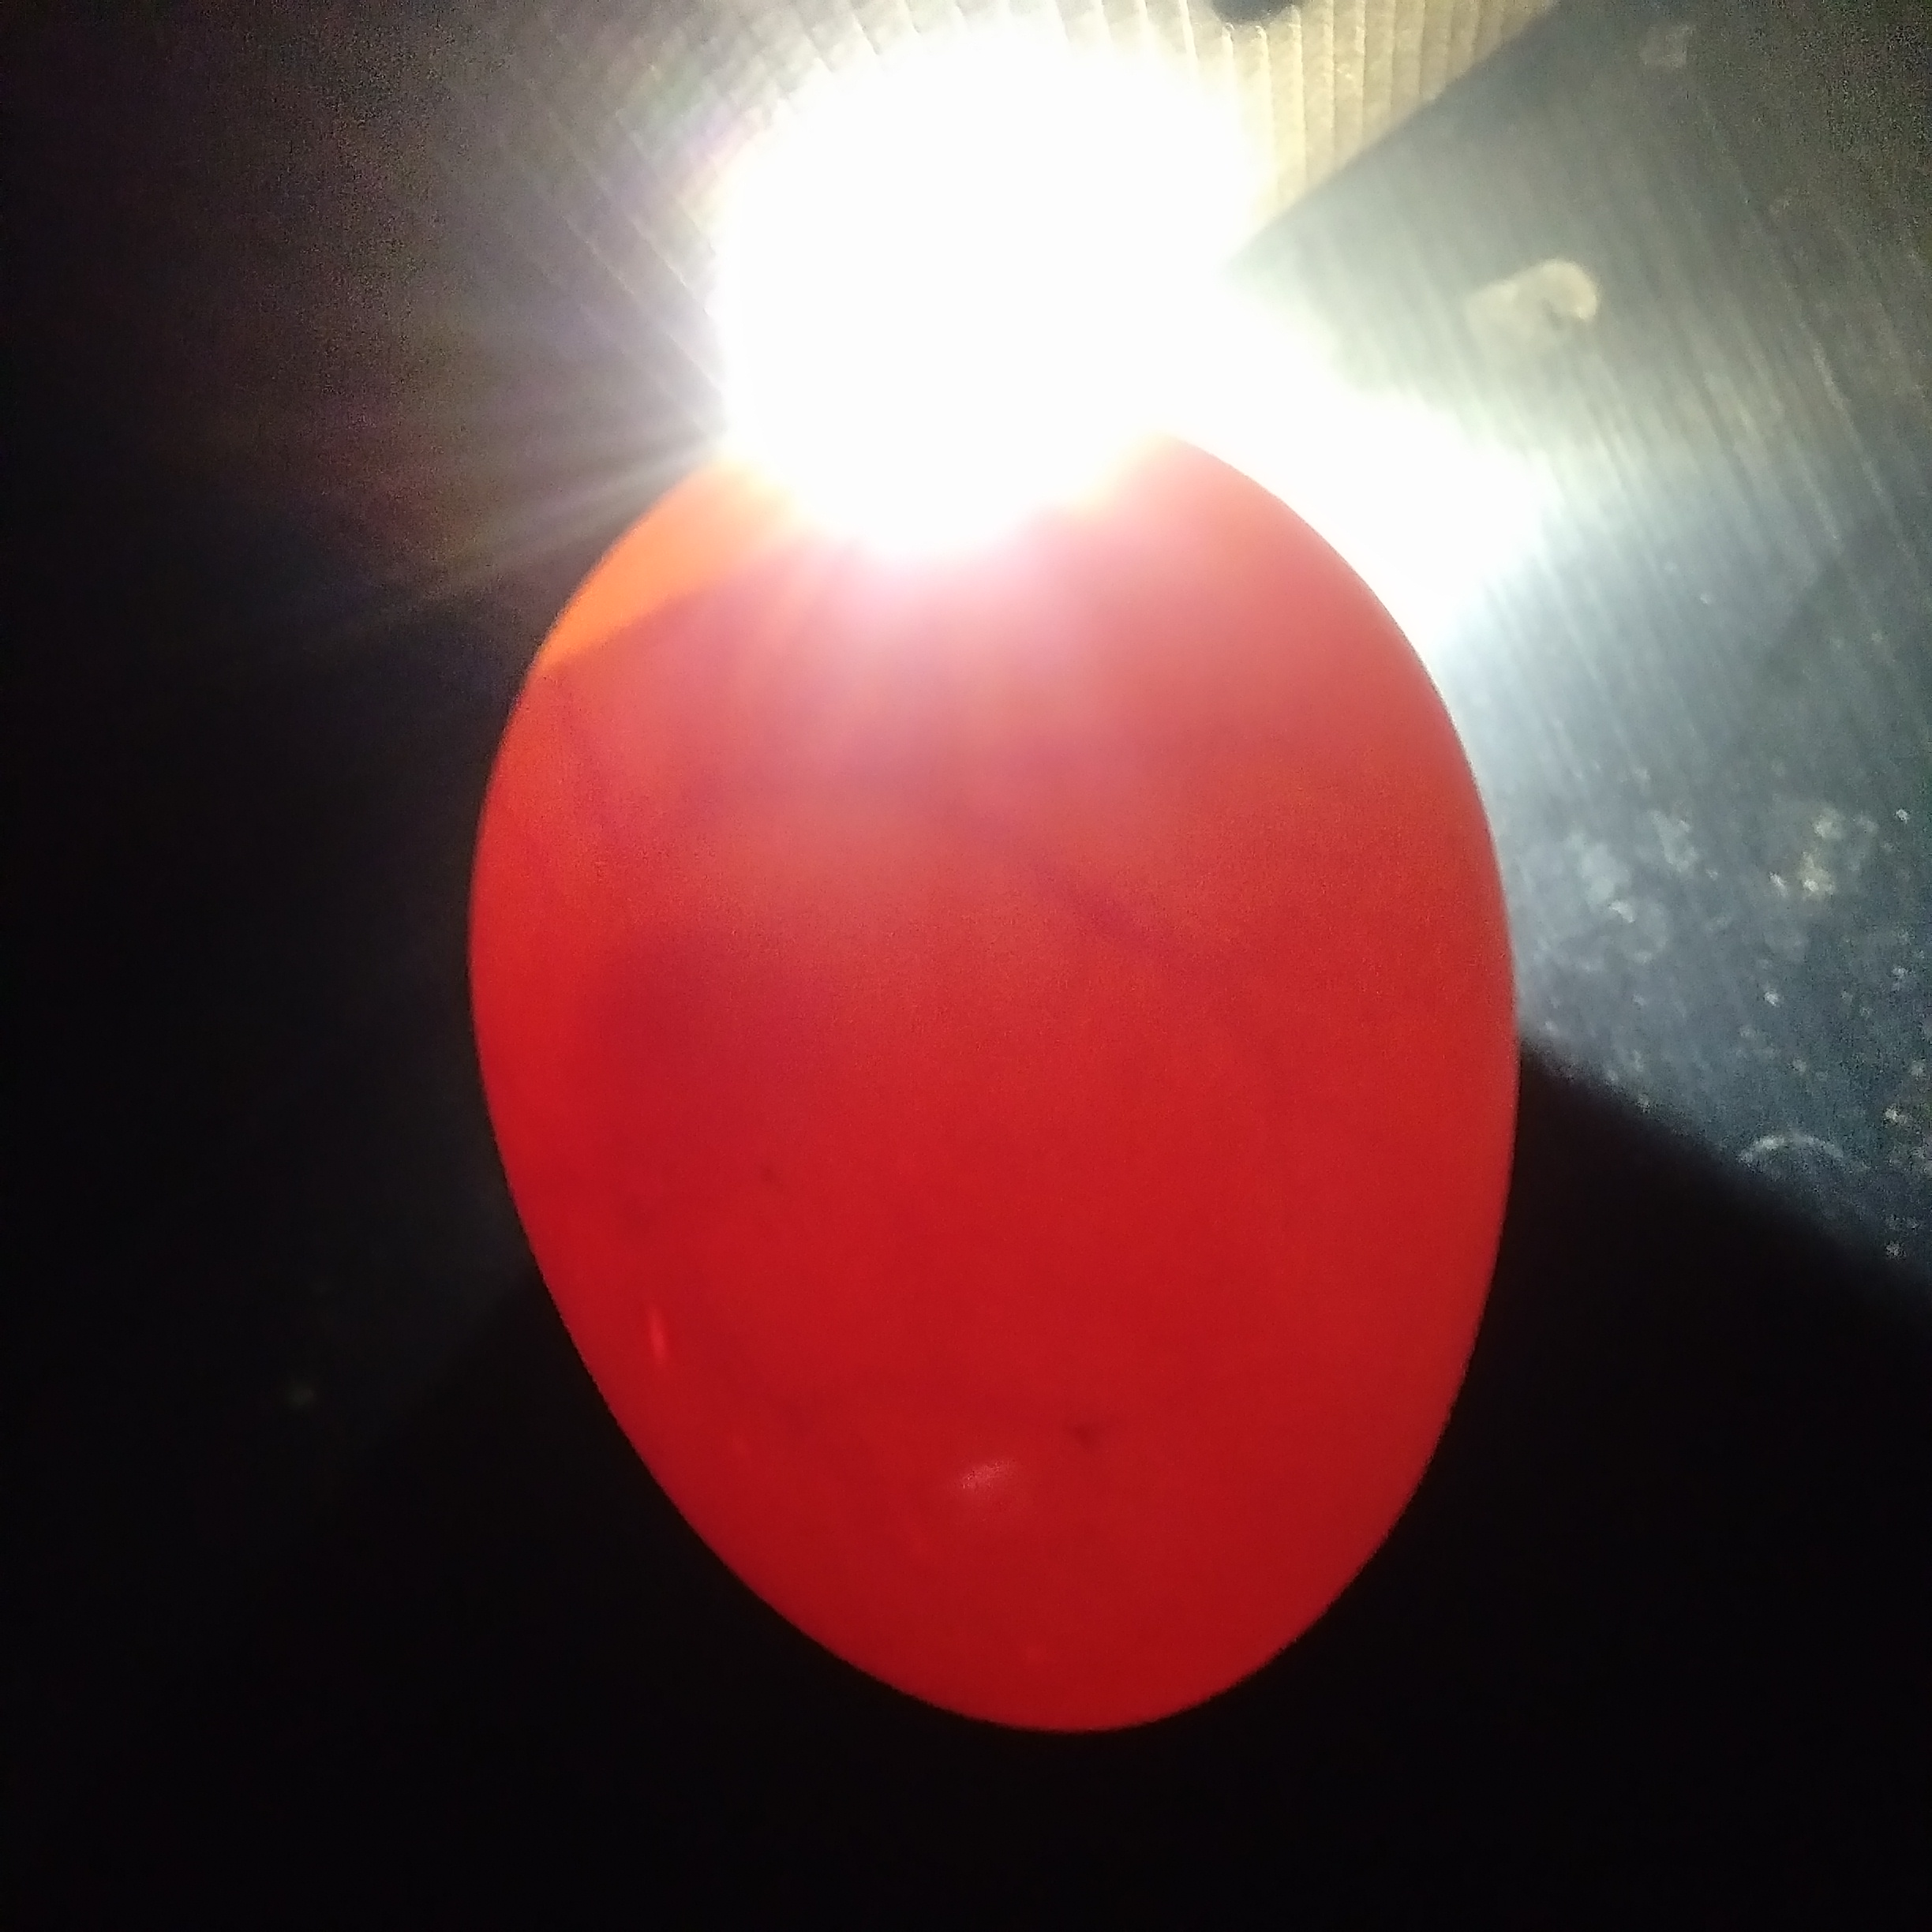bloodcell: (980, 939, 1401, 1539), (704, 653, 1272, 878)
embryo: (602, 902, 778, 1152)
